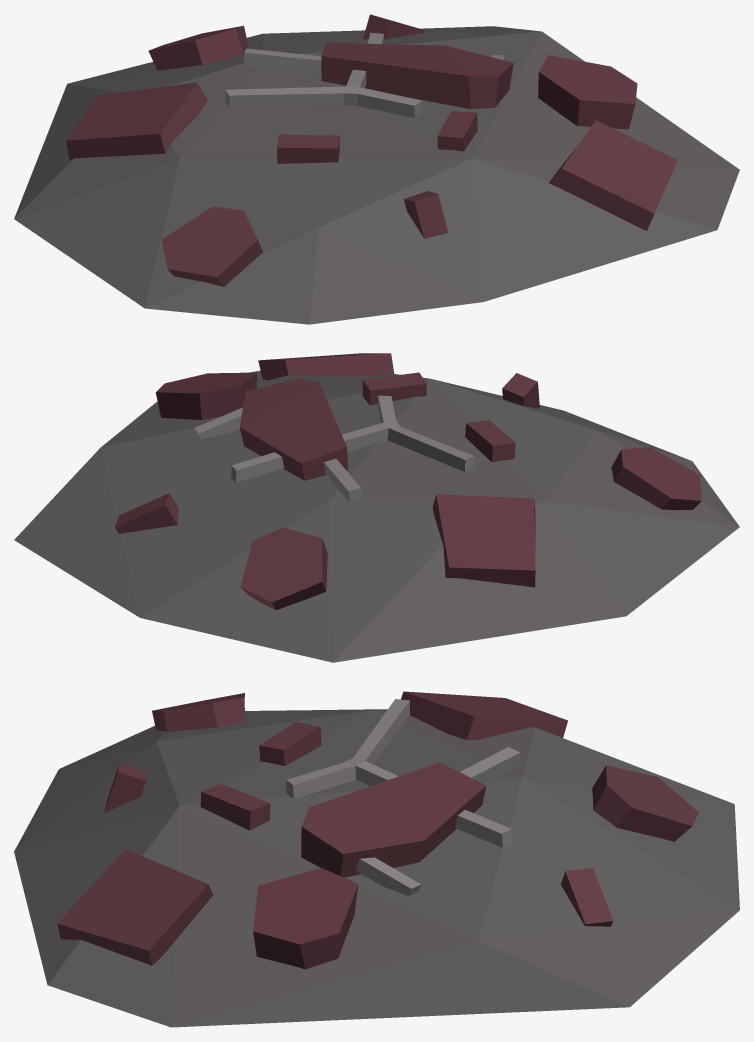
Rendered from rubble-concrete-apocalypse-c.fbx.
3 views of the same model, one above another, from view 1: azimuth 30°, elevation 25°; view 2: azimuth 150°, elevation 25°; view 3: azimuth 270°, elevation 25° (orthographic). The views are drawn at different scales.
Visible parts, largest first — view 1: rubble-concrete-apocalypse-c; view 2: rubble-concrete-apocalypse-c; view 3: rubble-concrete-apocalypse-c.
Boxes of the visible parts, <box> form: rubble-concrete-apocalypse-c: <box>14,14,739,324</box>; rubble-concrete-apocalypse-c: <box>14,353,739,662</box>; rubble-concrete-apocalypse-c: <box>14,691,739,1027</box>.
Size of the model in its own units: 4.6 by 0.7348 by 4.42.
